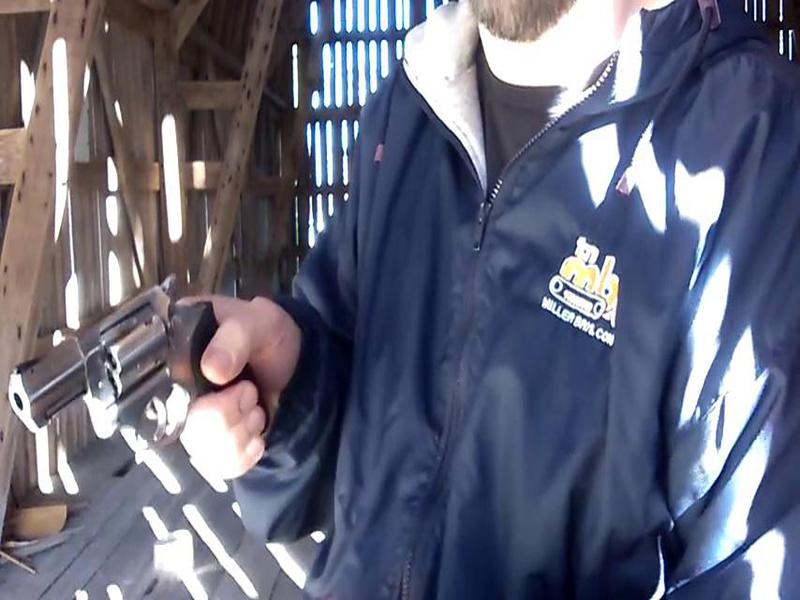Revolver: (16, 268, 247, 464)
